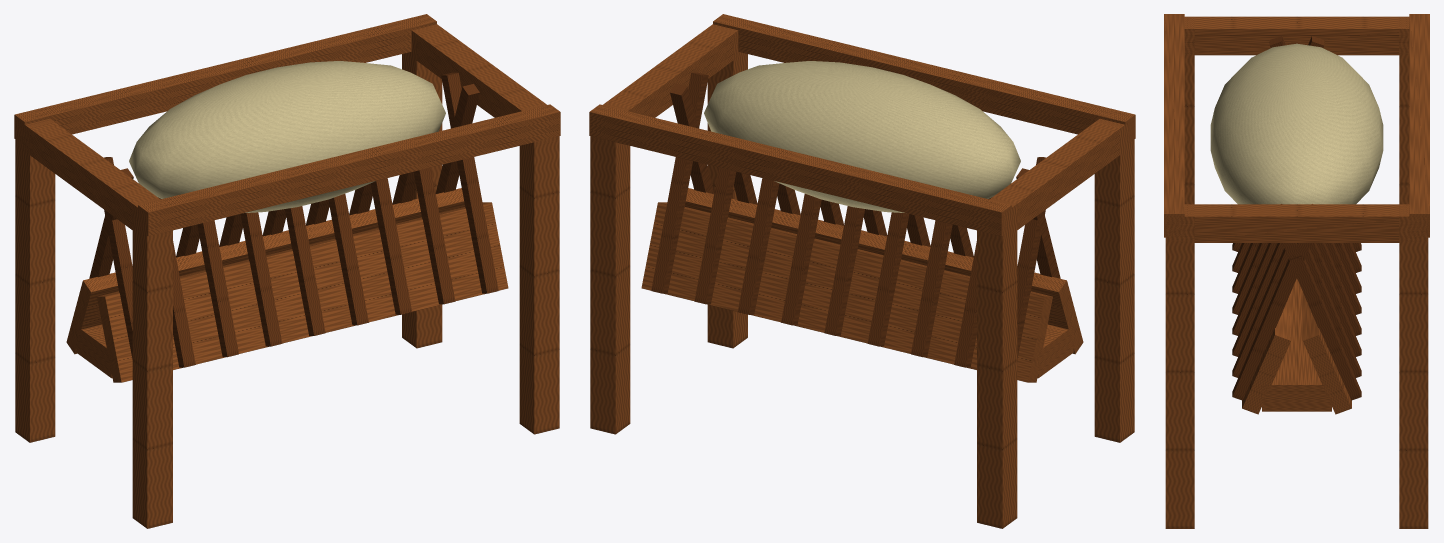
File: farm-and-working-animals-hd-hay-rack-51cf9621__29214.glb
3 views of the same model, side by side, from view 1: azimuth 30°, elevation 25°; view 2: azimuth 150°, elevation 25°; view 3: azimuth 270°, elevation 25° (orthographic).
Parts seen in each view (by area): view 1: hay-rack; view 2: hay-rack; view 3: hay-rack.
Part boxes in pixels (box(x1,y1,x2,y2)): hay-rack: box(14, 14, 560, 528); hay-rack: box(589, 14, 1135, 528); hay-rack: box(1164, 14, 1429, 528).
Bounding box in the file's own units: 1.62 × 1.32 × 0.91.
Materials: 3 (3 with a texture image).
